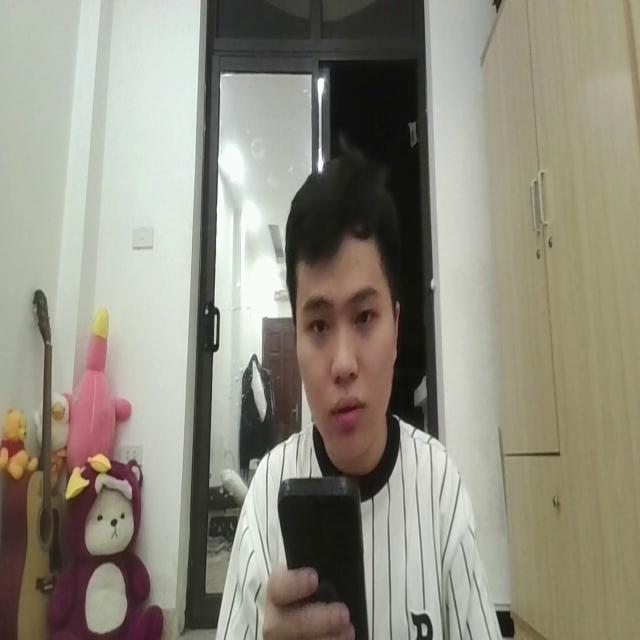phone: (279, 459, 368, 640)
student: (221, 146, 497, 640)
